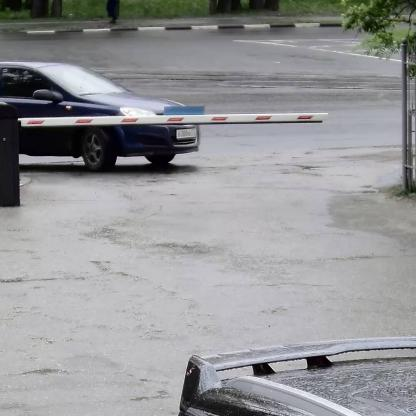plate: (177, 128, 196, 138)
